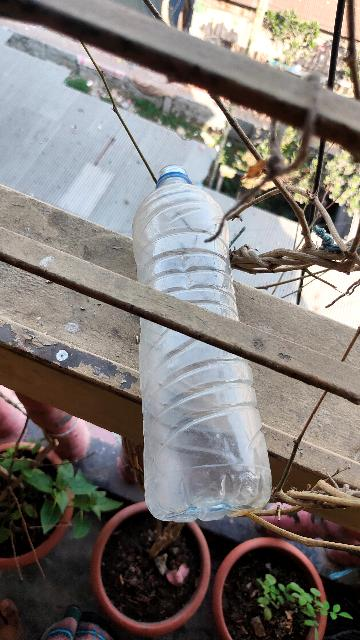bottle: (85, 153, 289, 540)
